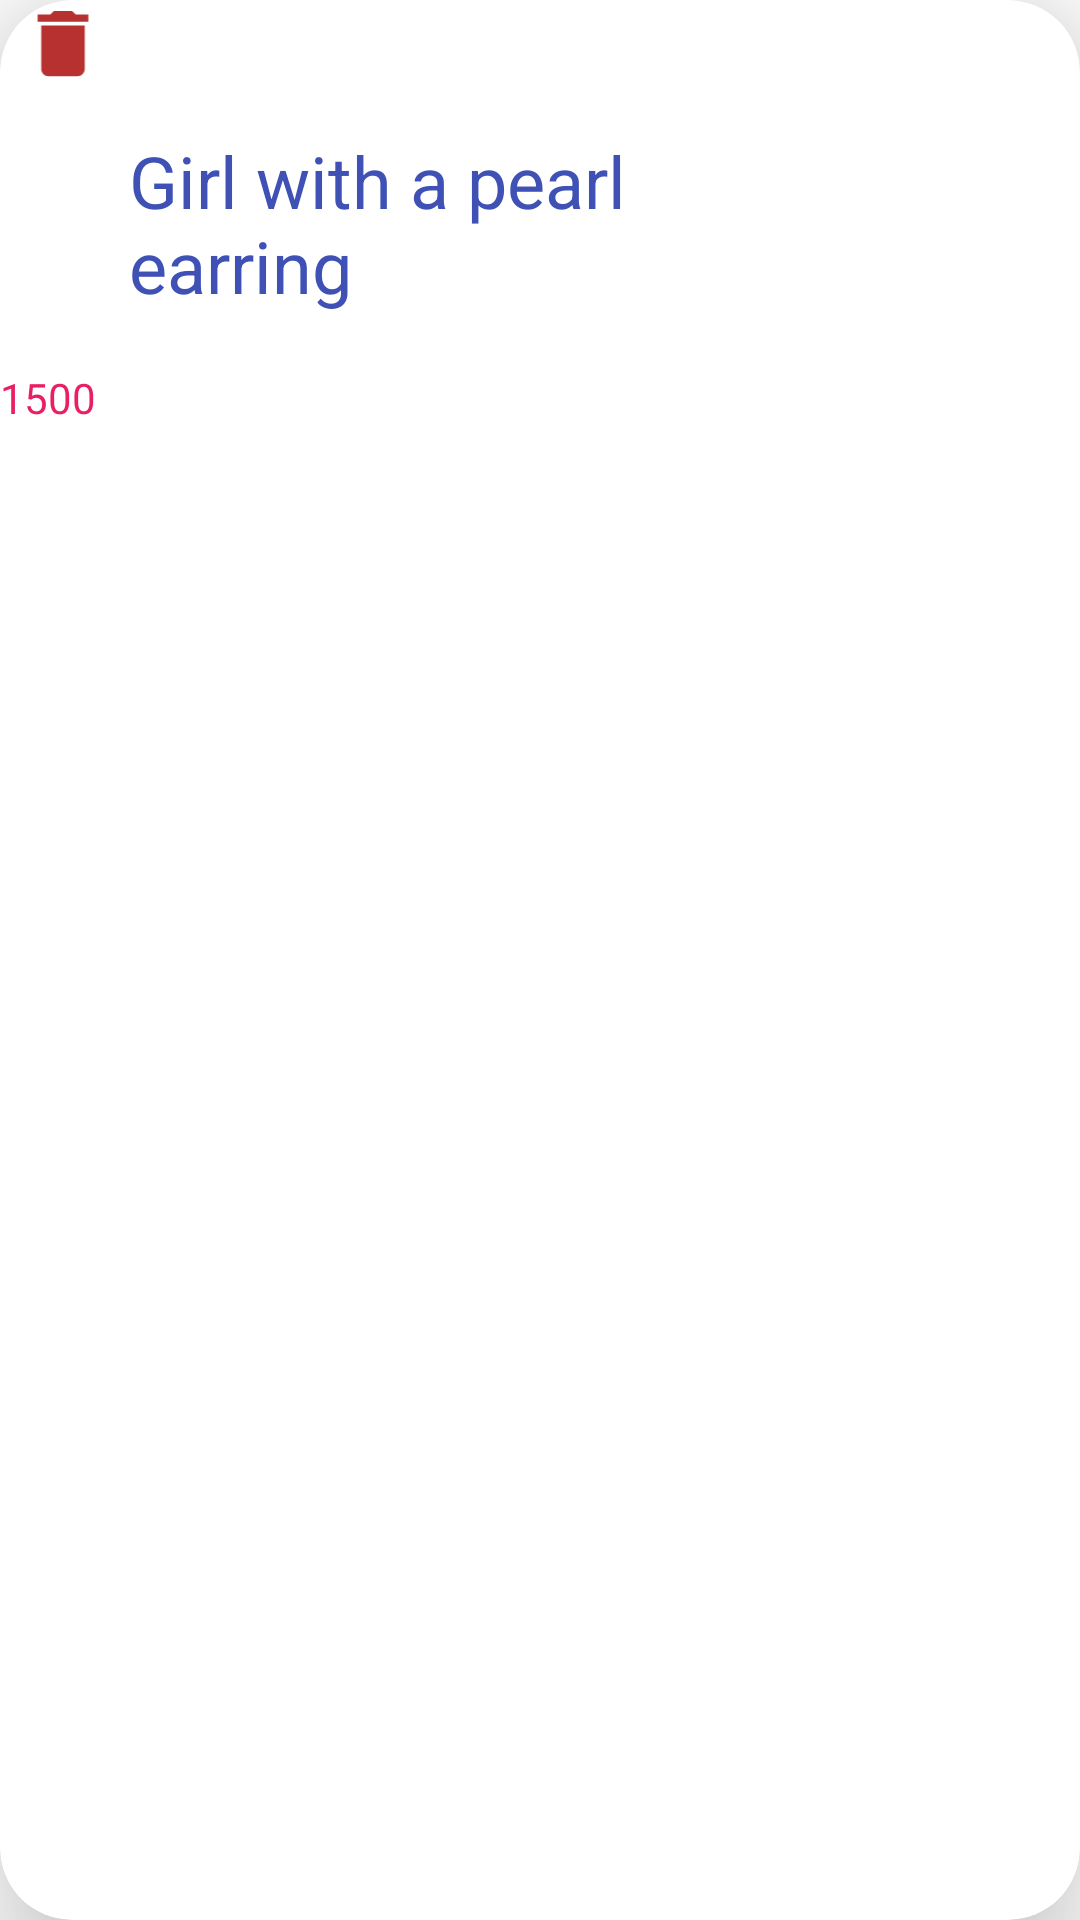

Screen size 1080w x 1920h. Icon name, then its box in pixels as bbox=[x1, y1, x2, y2]:
delete: bbox=[0, 11, 89, 77]
